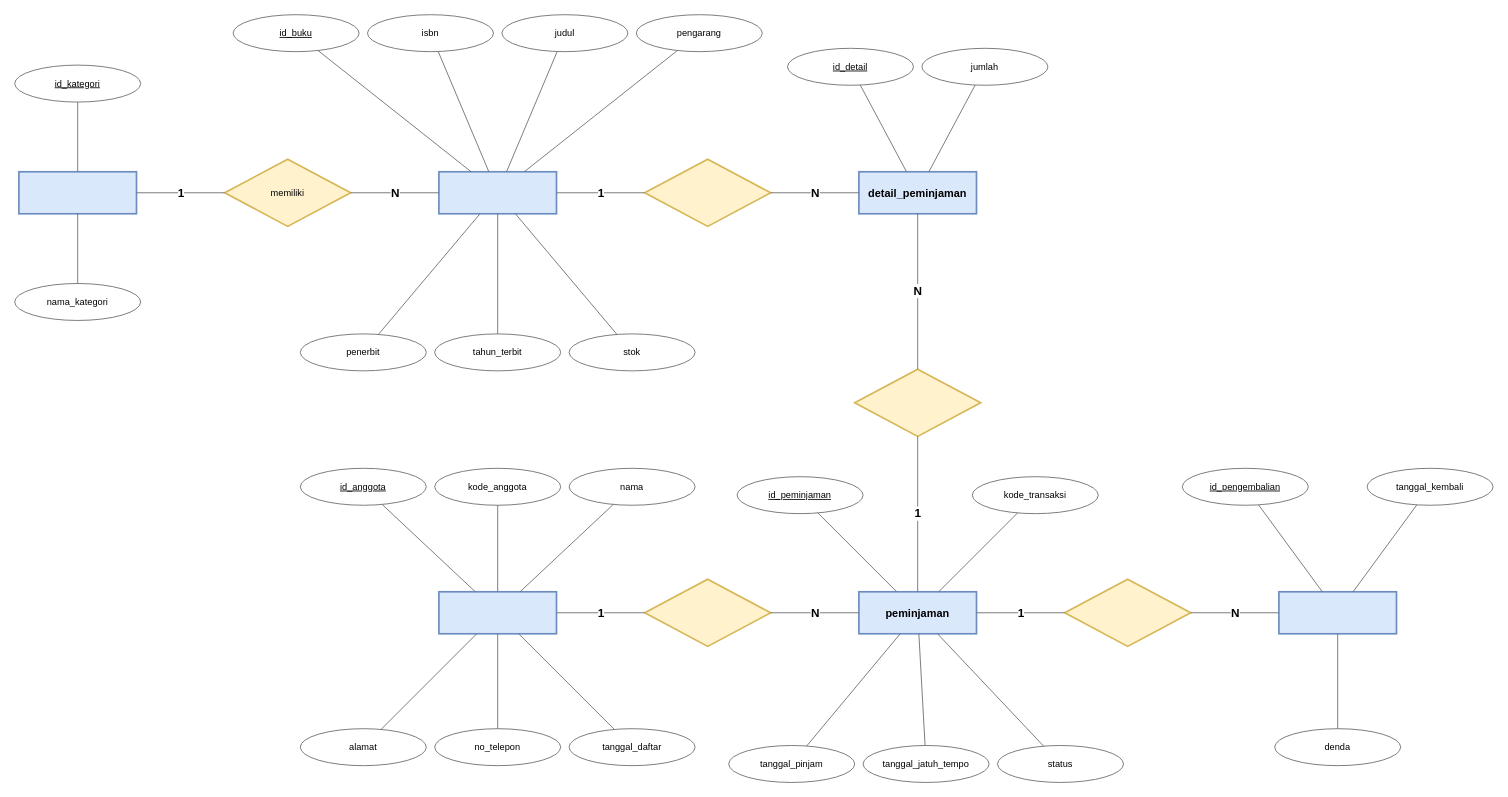
The diagram is 1508 pixels wide and 797 high, and some of its shapes have lost their labels. The shapes that lost their labels are listed below. From the top down, each one's centre as x and y in pixels, then its label:
point (77, 192): kategori
point (497, 192): buku
point (707, 192): dipinjam
point (917, 402): berisi
point (497, 612): anggota
point (707, 612): melakukan
point (1127, 612): dikembalikan
point (1337, 612): pengembalian
